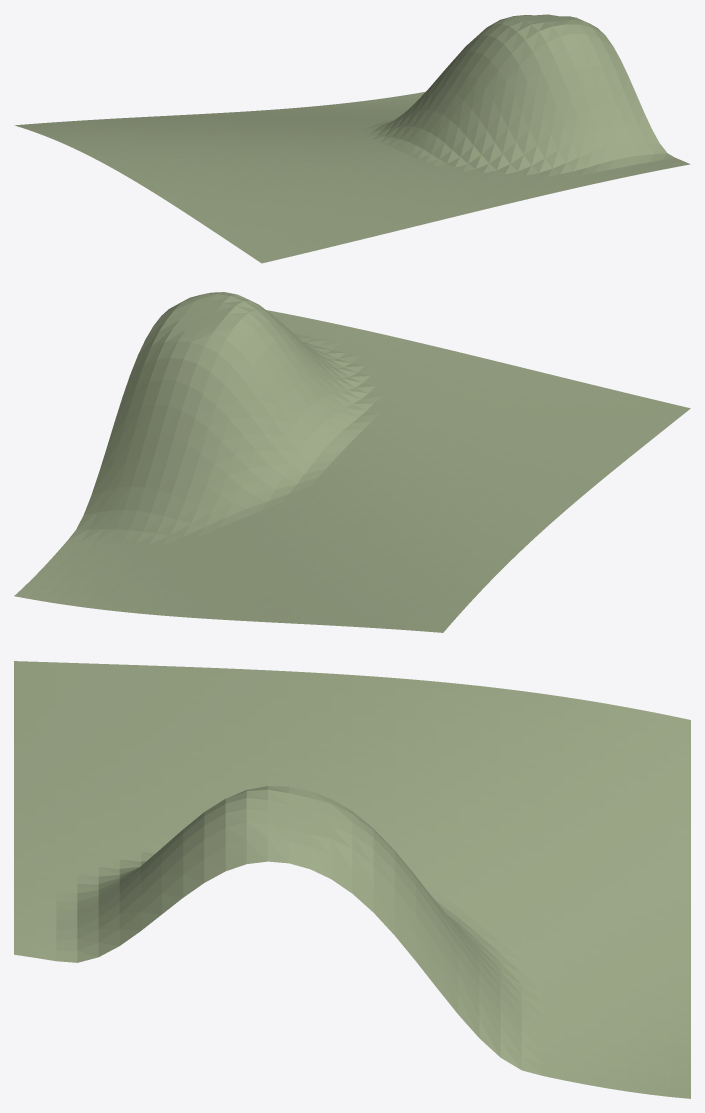
File: expanse-5-7.glb
3 renders of one model, top to bottom at view 1: azimuth 30°, elevation 25°; view 2: azimuth 150°, elevation 25°; view 3: azimuth 270°, elevation 25°, orthographic. The views are drawn at different scales.
Parts seen in each view (by area): view 1: expanse-5-7; view 2: expanse-5-7; view 3: expanse-5-7.
Boxes of the visible parts, left/top/right/bottom form: expanse-5-7: left=14, top=14, right=690, bottom=263; expanse-5-7: left=14, top=292, right=690, bottom=632; expanse-5-7: left=14, top=661, right=690, bottom=1098.
Bounding box in the file's own units: 256 × 111 × 256.
